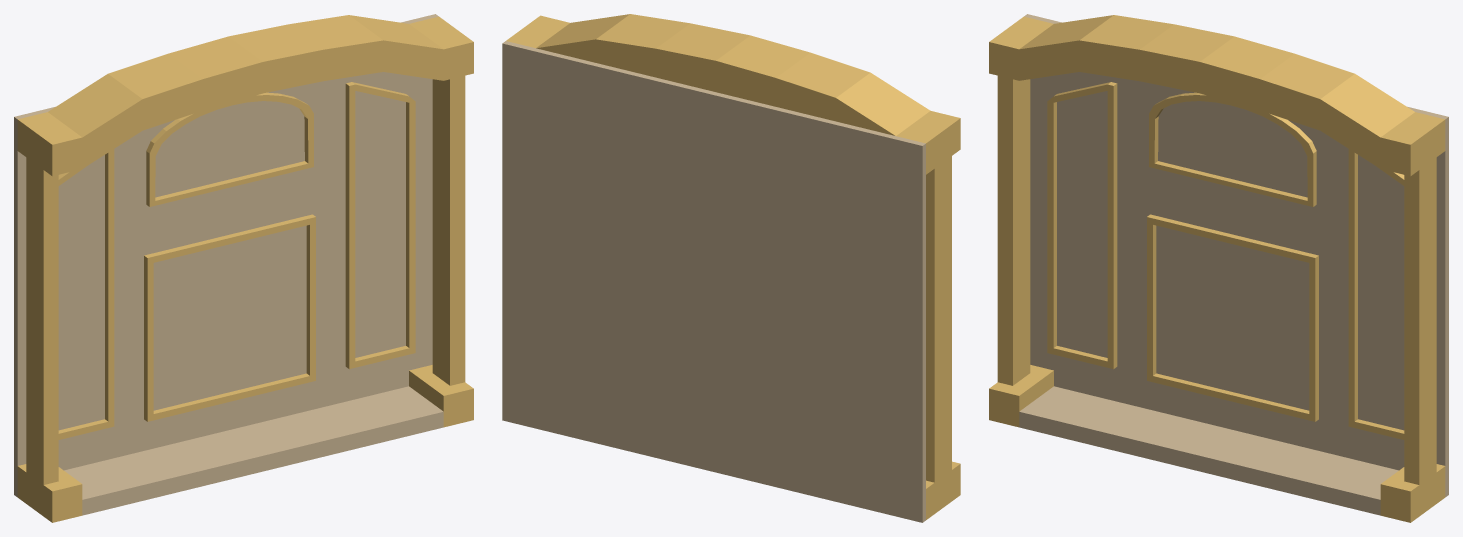
File: Wall with details.fbx
3 views of the same model, side by side, from view 1: azimuth 30°, elevation 25°; view 2: azimuth 150°, elevation 25°; view 3: azimuth 330°, elevation 25° (orthographic).
Parts seen in each view (by area): view 1: Wall repeat.001; view 2: Wall repeat.001; view 3: Wall repeat.001.
Part boxes in pixels (bbox=[...]): Wall repeat.001: bbox=[14, 14, 473, 522]; Wall repeat.001: bbox=[502, 14, 960, 522]; Wall repeat.001: bbox=[989, 14, 1448, 522].
Size of the model in its own units: 1400 by 1300 by 220.
